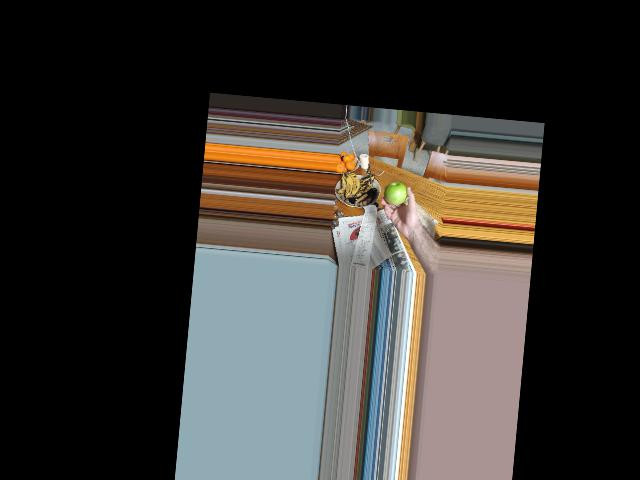apple: (382, 180, 408, 205)
